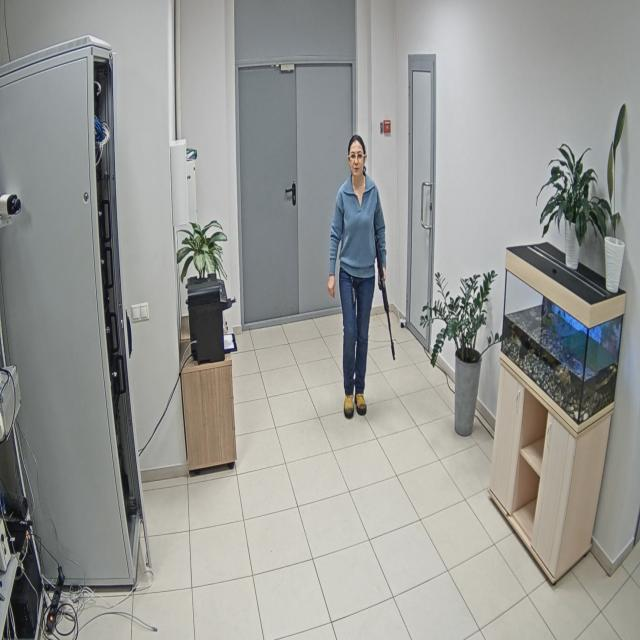-Gun: (375, 229, 395, 359)
